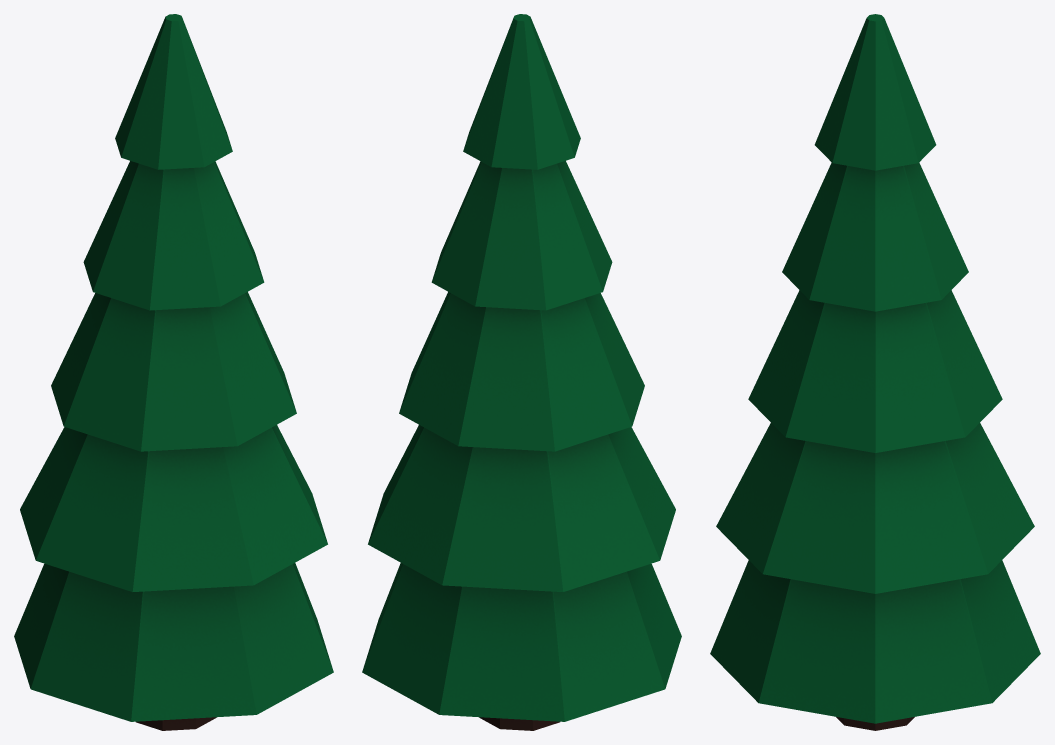
File: tree3.fbx
3 renders of one model, left to right at view 1: azimuth 30°, elevation 25°; view 2: azimuth 150°, elevation 25°; view 3: azimuth 270°, elevation 25°, orthographic.
Visible parts, largest first — view 1: tree3; view 2: tree3; view 3: tree3.
Part boxes in pixels (x1,y1,x2,y2): tree3: (14, 14, 333, 730); tree3: (362, 14, 681, 730); tree3: (710, 14, 1040, 730).
Size of the model in its own units: 139 by 322 by 139.
